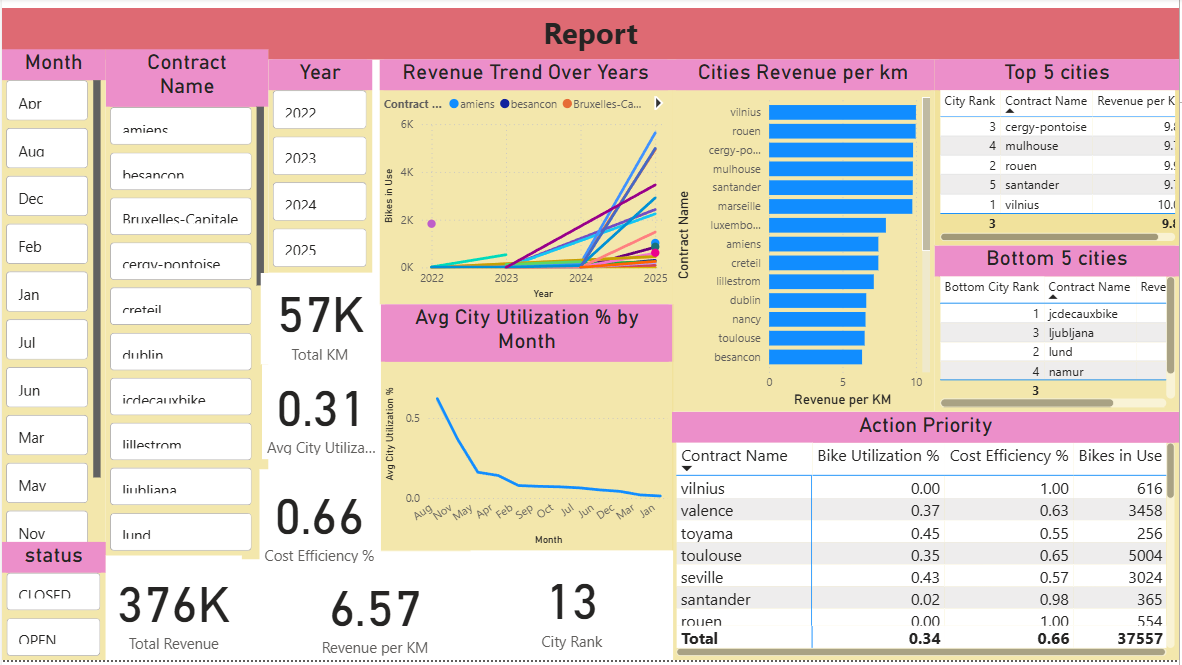

The page's visual inventory and layout, read from the dashboard file:
{"tool":"powerbi","page":{"name":"Report","canvas":[1280,720],"ordinal":13},"visuals":[{"type":"textbox","box":[9.6,0,1270.7,79.6],"z":0},{"type":"textbox","box":[0,11,1280.3,56.3],"z":1000},{"type":"advancedSlicerVisual","fields":{"Values":["Dim_Date.Year"]},"box":[289.5,67.2,112.5,231.9],"z":2000},{"type":"advancedSlicerVisual","fields":{"Values":["Dim_Date.Month"]},"box":[0,56.3,112.5,554.4],"z":3000},{"type":"advancedSlicerVisual","fields":{"Values":["Dim_Status.status"]},"box":[0,591.4,112.5,129],"z":4000},{"type":"advancedSlicerVisual","fields":{"Values":["Dim_City.Contract Name"]},"box":[112.5,56.3,177,554.4],"z":5000},{"type":"card","fields":{"Values":["Fact_Table.Total Revenue"]},"box":[112.8,606.2,148.1,114.2],"z":6000},{"type":"card","fields":{"Values":["Fact_Table.Total KM"]},"box":[281.3,299,129.1,99.2],"z":7000},{"type":"card","fields":{"Values":["Fact_Table.Avg City Utilization %"]},"box":[282.7,398.2,129.1,103.3],"z":8000},{"type":"card","fields":{"Values":["Fact_Table.Cost Efficiency %"]},"box":[280,512.4,130.5,110.1],"z":9000},{"type":"lineChart","title":"Revenue Trend Over Years","fields":{"Category":["Dim_Date.Date.Variation.Date Hierarchy.Year"],"Y":["Fact_Table.Bikes in Use"],"Series":["Dim_City.Contract Name"]},"box":[410.4,66.6,318,266.4],"z":10000},{"type":"lineChart","fields":{"Y":["Fact_Table.Avg City Utilization %"],"Category":["Dim_Date.Month"]},"box":[411.8,333,318,267.7],"z":11000},{"type":"card","fields":{"Values":["Fact_Table.Revenue per KM"]},"box":[282.7,614.3,246,106],"z":12000},{"type":"clusteredBarChart","title":" Cities Revenue per km","fields":{"Category":["Dim_City.Contract Name"],"Y":["Fact_Table.Revenue per KM"]},"box":[728.5,66.6,285.4,383.3],"z":13000},{"type":"pivotTable","title":"Action Priority","fields":{"Rows":["Dim_City.Contract Name"],"Values":["Fact_Table.Bike Utilization %","Fact_Table.Cost Efficiency %","Fact_Table.Bikes in Use"]},"box":[728.5,449.9,551.8,270.5],"z":14000},{"type":"card","fields":{"Values":["Fact_Table.City Rank"]},"box":[509.7,600.7,220.2,119.6],"z":15000},{"type":"tableEx","title":"Top 5 cities","fields":{"Values":["Fact_Table.City Rank","Dim_City.Contract Name","Fact_Table.Revenue per KM"]},"box":[1013.9,66.6,266.4,202.5],"z":16000},{"type":"tableEx","title":"Top 5 cities","fields":{"Values":["Fact_Table.City Rank","Dim_City.Contract Name","Fact_Table.Revenue per KM"]},"box":[1013.6,66.6,266.4,202.5],"z":17000},{"type":"tableEx","title":" Bottom 5 cities","fields":{"Values":["Fact_Table.Bottom City Rank","Dim_City.Contract Name","Fact_Table.Revenue per KM"]},"box":[1013.9,269.1,266.4,180.8],"z":18000}]}

Visuals, with their boxes in screenshot pixels (x1, y1, x2, y2), scaled from the page's 1280x720 canvas onto the 1182x665 screenshot:
textbox: x1=9 y1=0 x2=1181 y2=74
textbox: x1=0 y1=10 x2=1181 y2=62
advancedSlicerVisual - Dim_Date.Year: x1=267 y1=62 x2=371 y2=276
advancedSlicerVisual - Dim_Date.Month: x1=0 y1=52 x2=104 y2=564
advancedSlicerVisual - Dim_Status.status: x1=0 y1=546 x2=104 y2=664
advancedSlicerVisual - Dim_City.Contract Name: x1=104 y1=52 x2=267 y2=564
card - Fact_Table.Total Revenue: x1=104 y1=560 x2=241 y2=664
card - Fact_Table.Total KM: x1=260 y1=276 x2=379 y2=368
card - Fact_Table.Avg City Utilization %: x1=261 y1=368 x2=380 y2=463
card - Fact_Table.Cost Efficiency %: x1=259 y1=473 x2=379 y2=575
"Revenue Trend Over Years" lineChart: x1=379 y1=62 x2=673 y2=308
lineChart - Fact_Table.Avg City Utilization % x Dim_Date.Month: x1=380 y1=308 x2=674 y2=555
card - Fact_Table.Revenue per KM: x1=261 y1=567 x2=488 y2=664
" Cities Revenue per km" clusteredBarChart: x1=673 y1=62 x2=936 y2=416
"Action Priority" pivotTable: x1=673 y1=416 x2=1181 y2=664
card - Fact_Table.City Rank: x1=471 y1=555 x2=674 y2=664
"Top 5 cities" tableEx: x1=936 y1=62 x2=1181 y2=249
"Top 5 cities" tableEx: x1=936 y1=62 x2=1181 y2=249
" Bottom 5 cities" tableEx: x1=936 y1=249 x2=1181 y2=416
